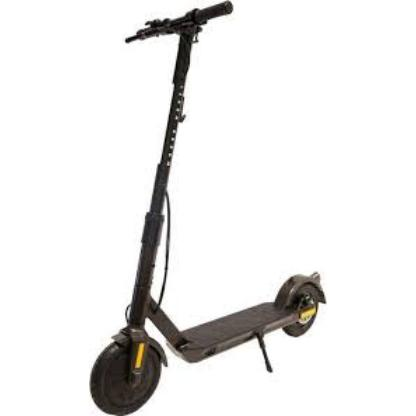bike: (87, 2, 328, 416)
